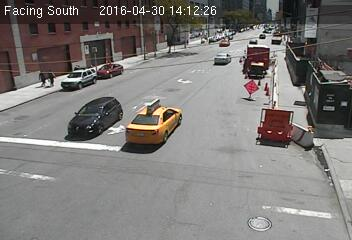neg: (133, 117, 150, 140), (38, 125, 55, 148), (222, 165, 238, 186), (271, 108, 284, 125), (300, 126, 311, 142), (83, 112, 93, 125), (163, 53, 172, 65), (217, 80, 223, 89)
pos: (34, 66, 49, 86), (44, 68, 57, 84)
